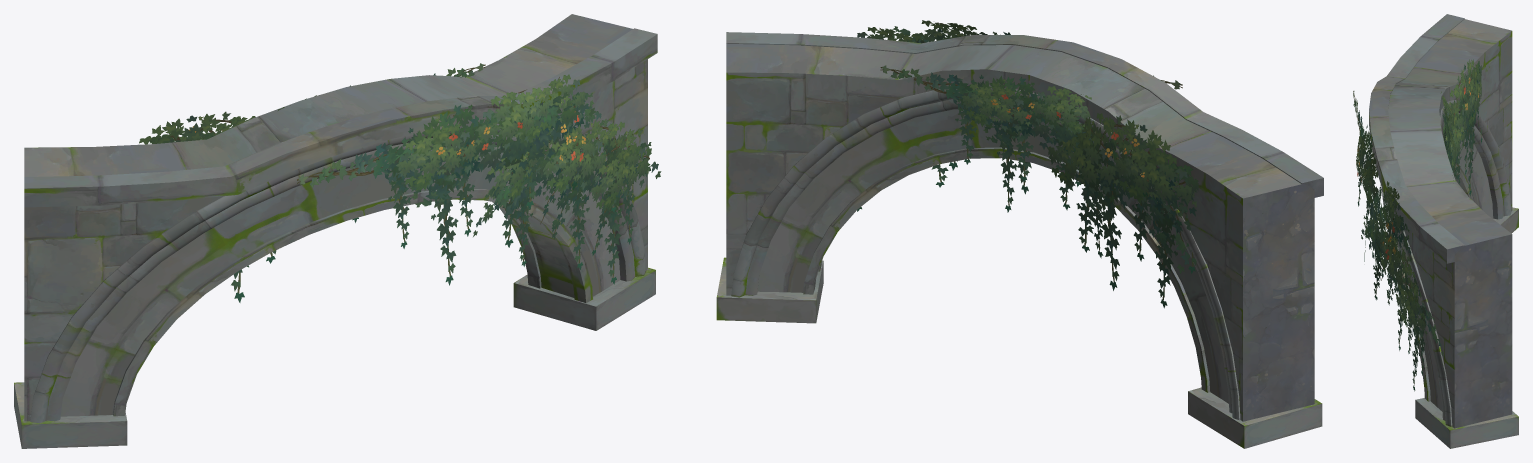
The model's file is Area_MdBuild_SdArch06_Group.fbx.
3 renders of one model, left to right at view 1: azimuth 30°, elevation 25°; view 2: azimuth 150°, elevation 25°; view 3: azimuth 270°, elevation 25°, orthographic. The views are drawn at different scales.
Visible parts, largest first — view 1: Area_MdBuild_SdArch06_Lod0, Stages_LYLvy03_Vo (1), Stages_LYLvy06_Vo (1), Stages_LYLvy08_Vo (1); view 2: Area_MdBuild_SdArch06_Lod0, Stages_LYLvy08_Vo (1), Stages_LYLvy03_Vo (2), Stages_LYLvy03_Vo (1), Stages_LYLvy06_Vo (1); view 3: Area_MdBuild_SdArch06_Lod0, Stages_LYLvy06_Vo (1), Stages_LYLvy08_Vo (1), Stages_LYLvy03_Vo (1), Stages_LYLvy03_Vo (2).
Boxes of the visible parts, x1,y1,x2,y2 form: Area_MdBuild_SdArch06_Lod0: (14, 14, 657, 448); Stages_LYLvy03_Vo (1): (297, 87, 596, 285); Stages_LYLvy06_Vo (1): (473, 74, 661, 284); Stages_LYLvy08_Vo (1): (139, 111, 276, 302); Area_MdBuild_SdArch06_Lod0: (716, 32, 1323, 448); Stages_LYLvy08_Vo (1): (1047, 113, 1198, 308); Stages_LYLvy03_Vo (2): (880, 65, 1095, 212); Stages_LYLvy03_Vo (1): (891, 20, 1182, 194); Stages_LYLvy06_Vo (1): (857, 27, 948, 211); Area_MdBuild_SdArch06_Lod0: (1369, 14, 1518, 448); Stages_LYLvy06_Vo (1): (1361, 181, 1443, 391); Stages_LYLvy08_Vo (1): (1443, 59, 1482, 196); Stages_LYLvy03_Vo (1): (1353, 91, 1386, 272); Stages_LYLvy03_Vo (2): (1441, 91, 1456, 180).
Bounding box in the file's own units: 18.93 × 8.24 × 5.49.
